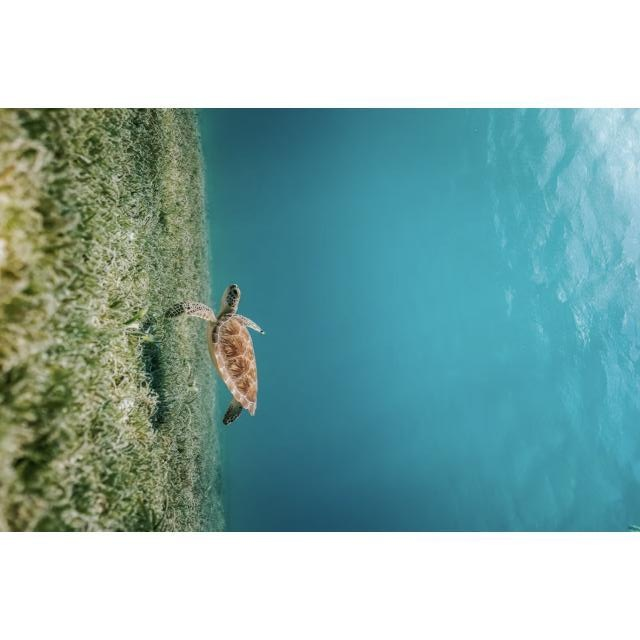turtle: (169, 285, 266, 425)
